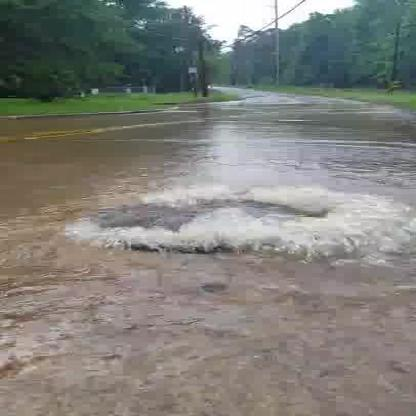drainage overflow-repair-: (74, 200, 326, 251)
